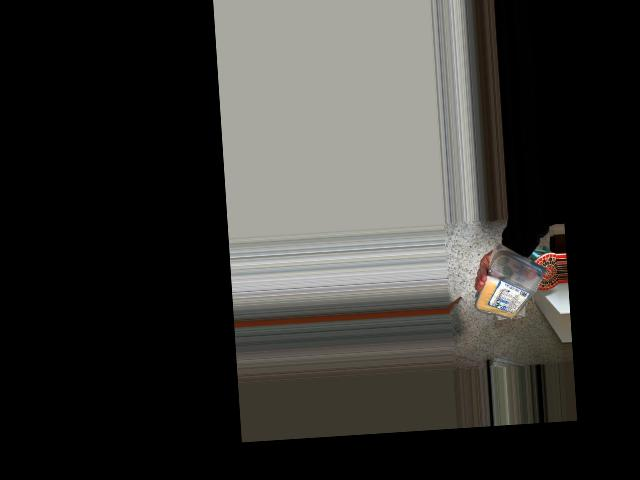cheese: (480, 251, 550, 325)
